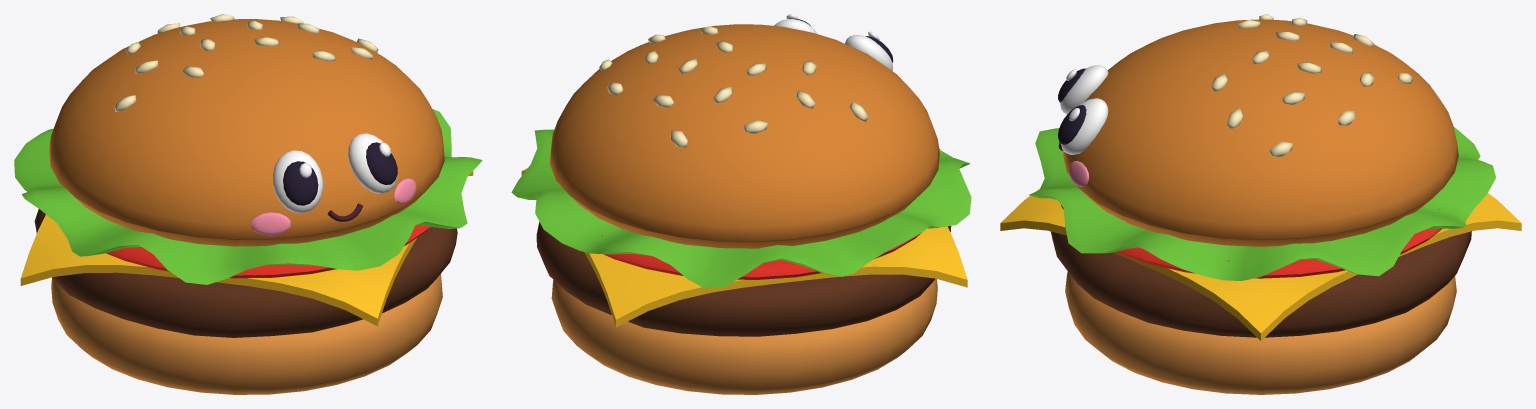
Rendered from Burger.fbx.
The picture shows the model from 3 angles, left to right: view 1: azimuth 30°, elevation 25°; view 2: azimuth 150°, elevation 25°; view 3: azimuth 270°, elevation 25°; orthographic projection.
Parts seen in each view (by area): view 1: TopBun_D6802E, BottomBun_DB8C3D, Lettuce_66C233, Patty_5C301A, Cheese_FFC21F, Eyes_FFFFFF, Seeds_FAEBB8, Pupils_241B2F, Tomato_E0291F, Blush_FF8FAB; view 2: TopBun_D6802E, BottomBun_DB8C3D, Lettuce_66C233, Patty_5C301A, Cheese_FFC21F, Seeds_FAEBB8, Tomato_E0291F, Eyes_FFFFFF; view 3: TopBun_D6802E, BottomBun_DB8C3D, Lettuce_66C233, Patty_5C301A, Cheese_FFC21F, Seeds_FAEBB8, Eyes_FFFFFF, Tomato_E0291F, Pupils_241B2F.
Boxes of the visible parts, box(x1,y1,x2,y2) form: TopBun_D6802E: box(49, 19, 444, 246); BottomBun_DB8C3D: box(51, 274, 442, 394); Lettuce_66C233: box(14, 109, 482, 284); Patty_5C301A: box(34, 209, 457, 337); Cheese_FFC21F: box(20, 171, 473, 326); Eyes_FFFFFF: box(273, 133, 397, 213); Seeds_FAEBB8: box(114, 14, 378, 111); Pupils_241B2F: box(283, 142, 397, 205); Tomato_E0291F: box(106, 224, 430, 278); Blush_FF8FAB: box(251, 178, 416, 235); TopBun_D6802E: box(550, 24, 939, 248); BottomBun_DB8C3D: box(551, 278, 937, 394); Lettuce_66C233: box(511, 129, 971, 288); Patty_5C301A: box(536, 222, 951, 336); Cheese_FFC21F: box(521, 168, 967, 327); Seeds_FAEBB8: box(599, 26, 868, 147); Tomato_E0291F: box(601, 232, 921, 279); Eyes_FFFFFF: box(774, 19, 892, 70); TopBun_D6802E: box(1063, 19, 1458, 246); BottomBun_DB8C3D: box(1065, 271, 1456, 394); Lettuce_66C233: box(1029, 127, 1495, 280); Patty_5C301A: box(1050, 231, 1471, 337); Cheese_FFC21F: box(1000, 189, 1521, 340); Seeds_FAEBB8: box(1211, 14, 1413, 157); Eyes_FFFFFF: box(1060, 65, 1108, 154); Tomato_E0291F: box(1061, 205, 1442, 278); Pupils_241B2F: box(1058, 68, 1086, 144).
Bounding box in the file's own units: 2.72 × 1.61 × 2.72.
